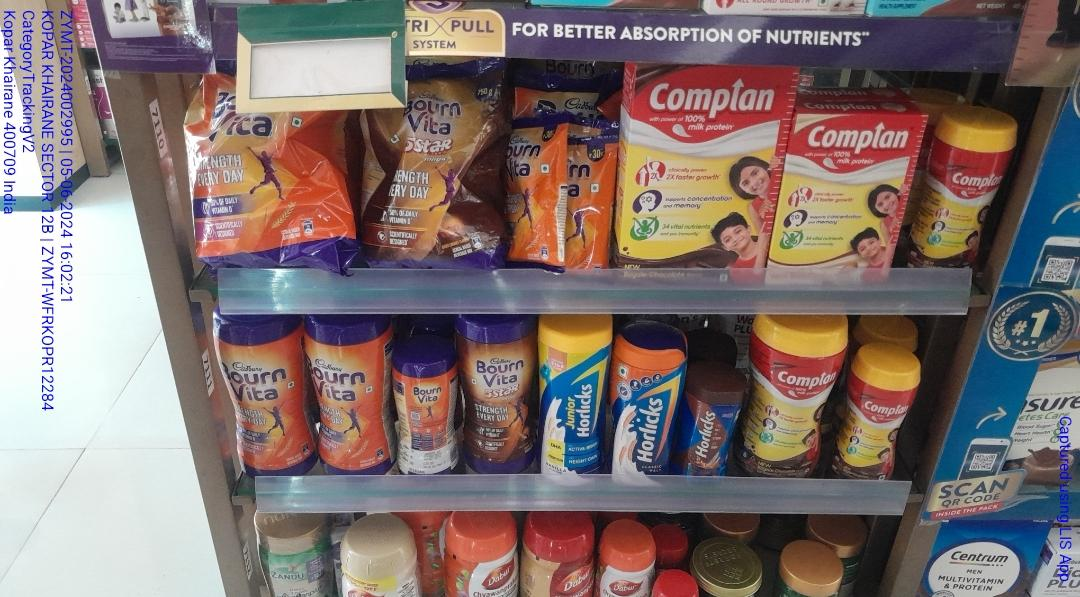BOURN_VITA_500_G_JAR: (226, 317, 307, 482), (310, 315, 388, 478)
BOURN_VITA_FIVE_STAR_MAGIC_500_G_JAR: (462, 317, 542, 475)
BOURN_VITA_FIVE_STAR_MAGIC_750_G_POUCH: (386, 63, 505, 262)
COMPLAN_CHOCOLATE_200_GMS_JAR: (920, 105, 1010, 268), (844, 345, 917, 477)
COMPLAN_CHOCOLATE_200_GMS_PACK: (782, 109, 914, 292)
COMPLAN_CHOCOLATE_500_GMS_JAR: (749, 315, 841, 481)
COMPLAN_CHOCOLATE_500_GMS_PACK: (625, 63, 780, 283)
HORLICK_CHOCOLATE_200_G_JAR: (686, 363, 746, 476)
HORLICK_CLASSIC_MALT_500_G_JAR: (610, 323, 683, 473)
